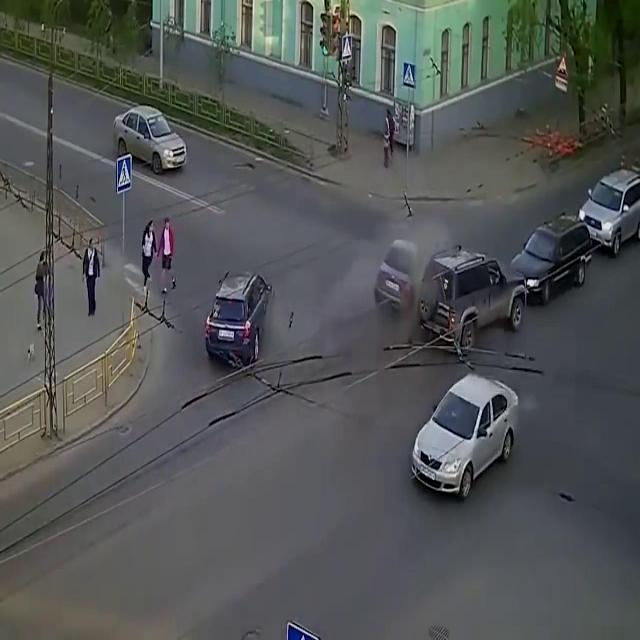accident: (372, 212, 590, 358)
non-accident: (509, 167, 639, 306)
